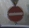No entry: (6, 5, 24, 23)
